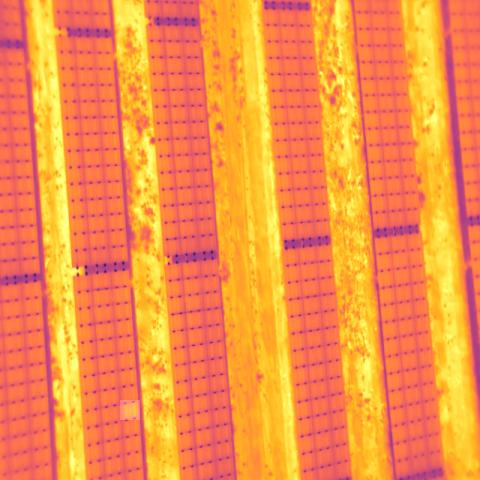fault: (120, 400, 140, 420)
